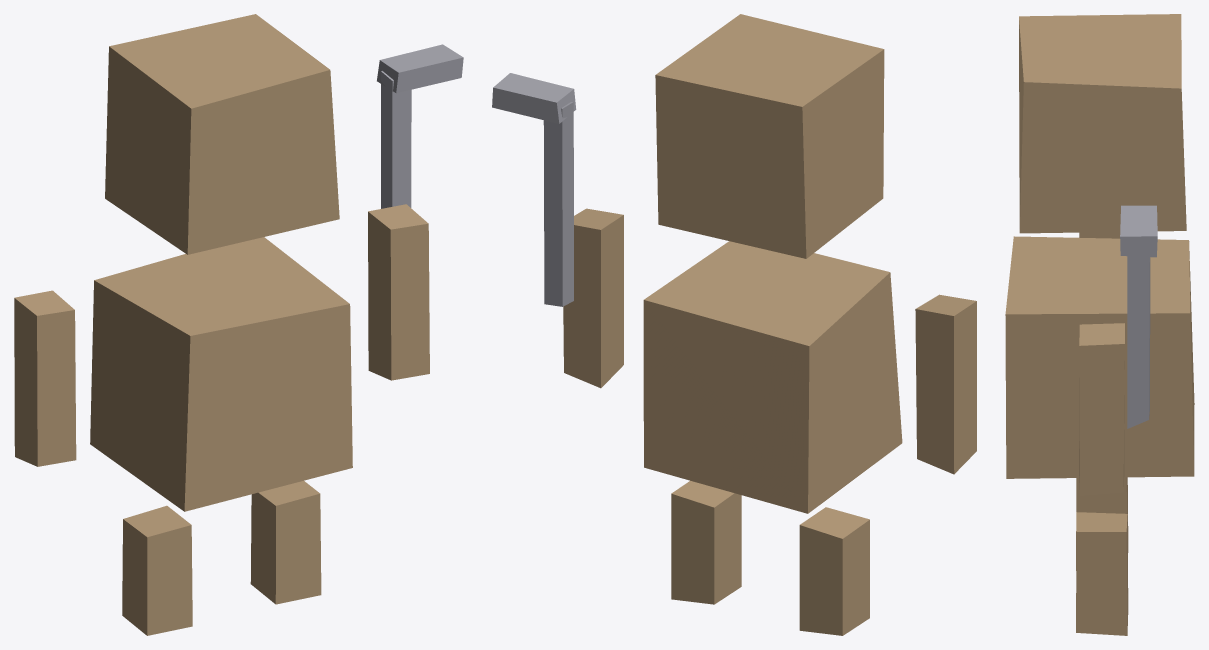
Rendered from clay_blocky_farmer.glb.
3 views of the same model, side by side, from view 1: azimuth 30°, elevation 25°; view 2: azimuth 150°, elevation 25°; view 3: azimuth 270°, elevation 25° (orthographic).
Visible parts, largest first — view 1: blade; view 2: blade; view 3: blade.
Boxes of the visible parts, x1,y1,x2,y2 form: blade: (14, 14, 463, 635); blade: (492, 14, 976, 635); blade: (1005, 14, 1194, 635).
Size of the model in its own units: 1.39 by 1.64 by 0.5151.
